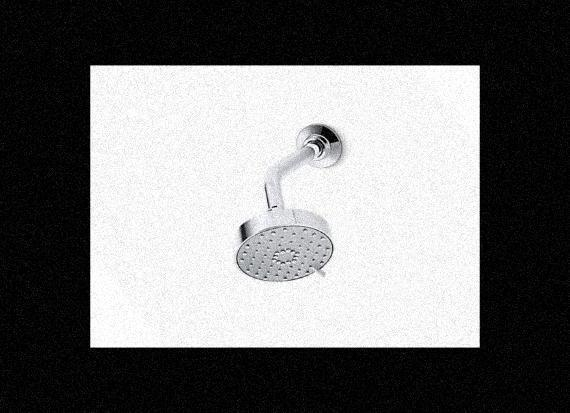Ducha: (219, 108, 360, 288)
